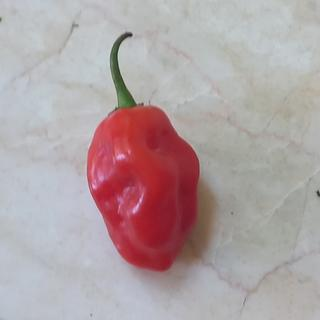Grade-A: (82, 103, 206, 277)
